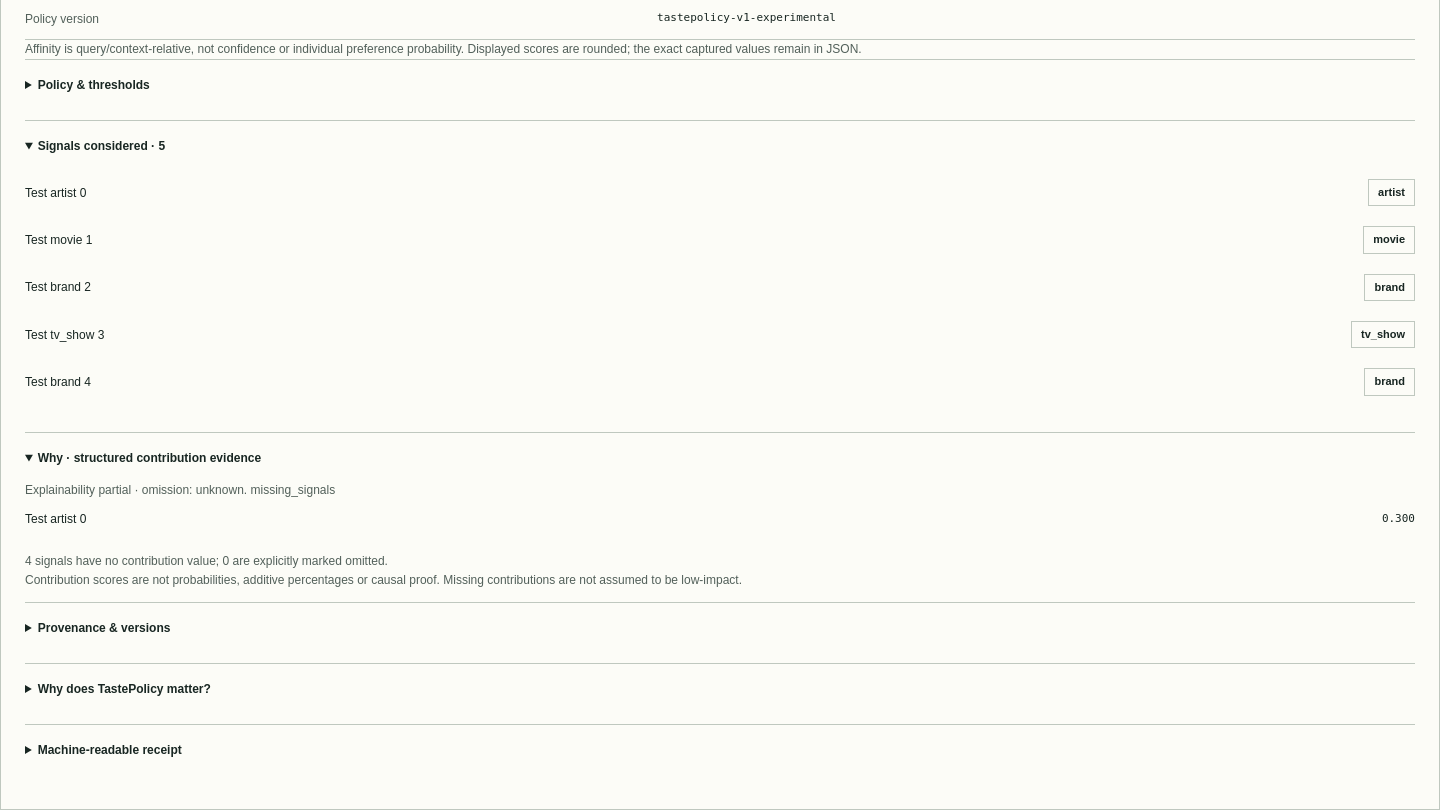
it: labels recorded receipt provenance explicitly
(page scrolled)
Click the heading "Why does TastePolicy matter?" at (124, 689), box [38, 682, 211, 696]
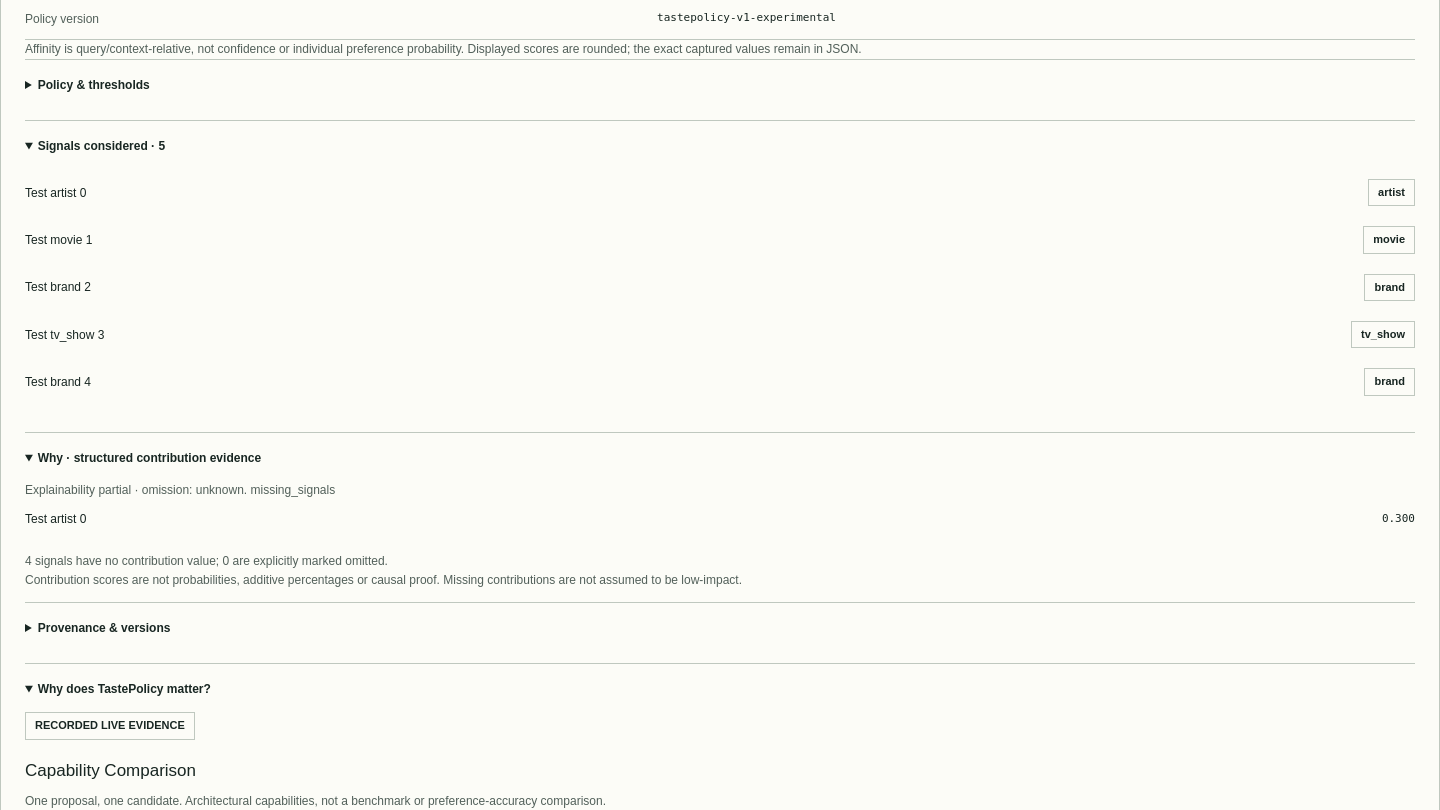
Now the text "RECORDED LIVE EVIDENCE" is shown, box [25, 712, 195, 740]
